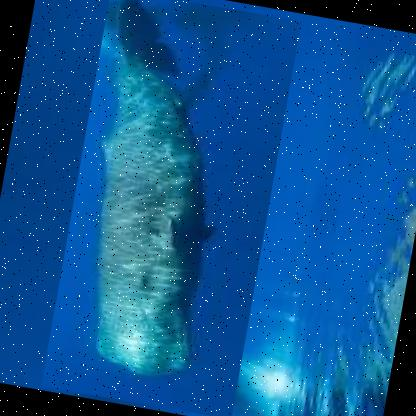sperm_whale: (38, 0, 300, 415)
